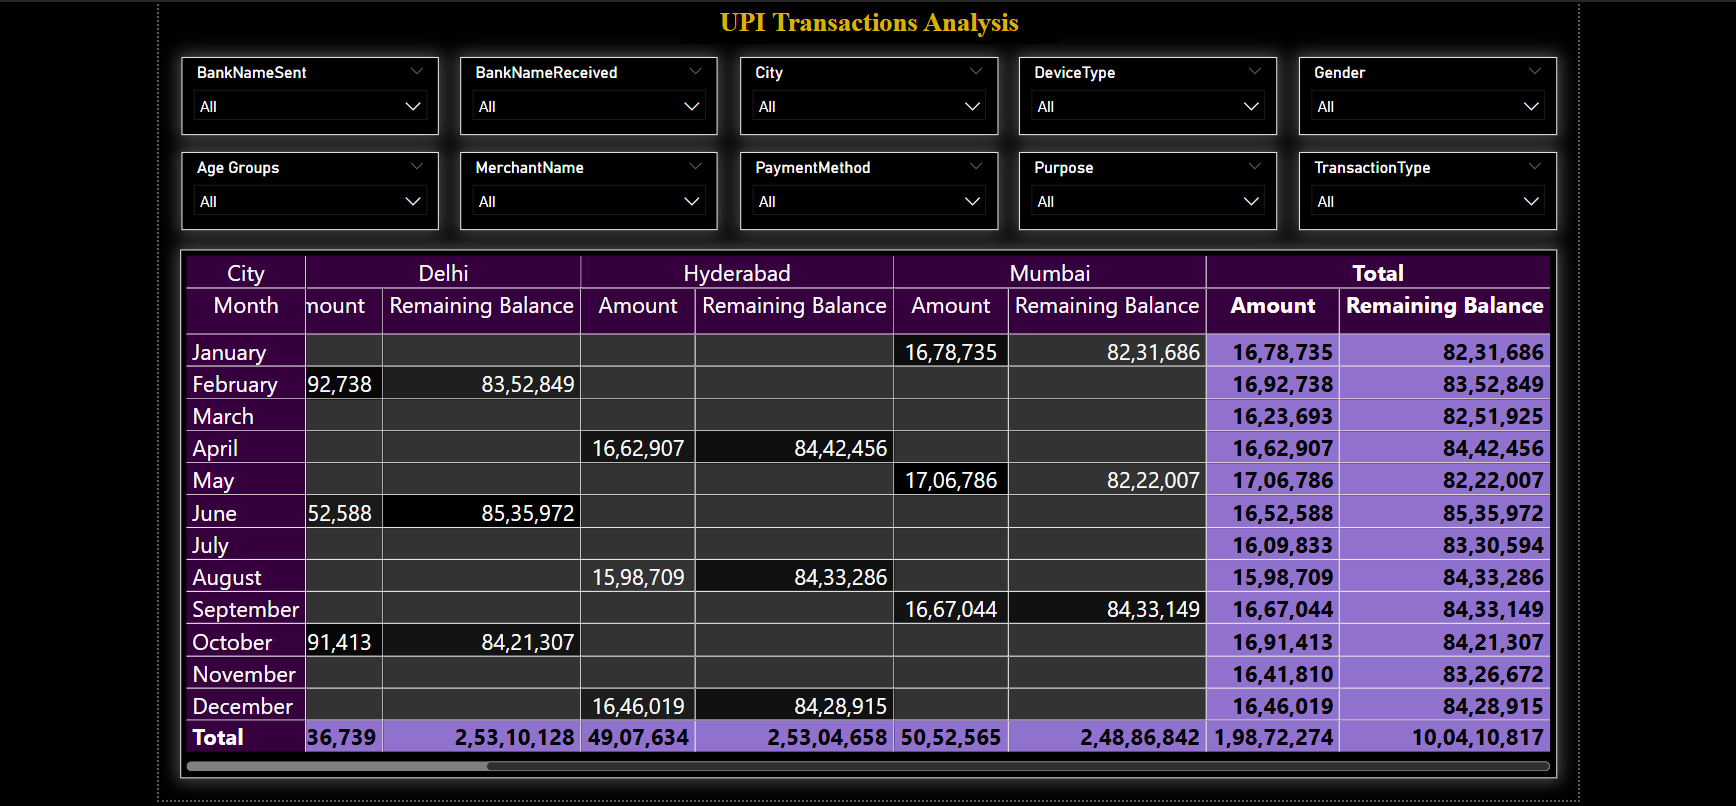

The page's visual inventory and layout, read from the dashboard file:
{"tool":"powerbi","page":{"name":"Page 2","canvas":[1280,720],"ordinal":1},"visuals":[{"type":"slicer","fields":{"Values":["UPI Transactions.BankNameSent"]},"box":[20,50,232,70],"z":0},{"type":"slicer","fields":{"Values":["UPI Transactions.BankNameReceived"]},"box":[272,50,232,70],"z":1000},{"type":"slicer","fields":{"Values":["UPI Transactions.City"]},"box":[524,50,232.6,70],"z":2000},{"type":"slicer","fields":{"Values":["UPI Transactions.DeviceType"]},"box":[776,50,232.6,70],"z":3000},{"type":"slicer","fields":{"Values":["UPI Transactions.Gender"]},"box":[1028,50,232.6,70],"z":4000},{"type":"slicer","fields":{"Values":["UPI Transactions.Age Groups"]},"box":[20,135,232,70],"z":5000},{"type":"slicer","fields":{"Values":["UPI Transactions.MerchantName"]},"box":[272,135,232,70],"z":6000},{"type":"slicer","fields":{"Values":["UPI Transactions.PaymentMethod"]},"box":[524,135,232.6,70],"z":7000},{"type":"slicer","fields":{"Values":["UPI Transactions.Purpose"]},"box":[776,135,232.6,70],"z":8000},{"type":"slicer","fields":{"Values":["UPI Transactions.TransactionType"]},"box":[1028,135,232.6,70],"z":9000},{"type":"pivotTable","fields":{"Values":["Sum(UPI Transactions.Amount)","Sum(UPI Transactions.RemainingBalance)"],"Rows":["UPI Transactions.TransactionDate.Variation.Date Hierarchy.Month"],"Columns":["UPI Transactions.City","UPI Transactions.Currency"]},"box":[18.7,222.7,1241.5,476.4],"z":10000},{"type":"textbox","box":[470.2,0,340.8,37.3],"z":10001}]}

Visuals, with their boxes on the page's 1280x720 design canvas (x1, y1, x2, y2). These are canvas units, not pixel positions in the 1736x806 screenshot, which may show the page scaled, cropped or inside an application window:
slicer - UPI Transactions.BankNameSent: 20 50 252 120
slicer - UPI Transactions.BankNameReceived: 272 50 504 120
slicer - UPI Transactions.City: 524 50 757 120
slicer - UPI Transactions.DeviceType: 776 50 1009 120
slicer - UPI Transactions.Gender: 1028 50 1261 120
slicer - UPI Transactions.Age Groups: 20 135 252 205
slicer - UPI Transactions.MerchantName: 272 135 504 205
slicer - UPI Transactions.PaymentMethod: 524 135 757 205
slicer - UPI Transactions.Purpose: 776 135 1009 205
slicer - UPI Transactions.TransactionType: 1028 135 1261 205
pivotTable - Sum(UPI Transactions.Amount) x Sum(UPI Transactions.RemainingBalance): 19 223 1260 699
textbox: 470 0 811 37
